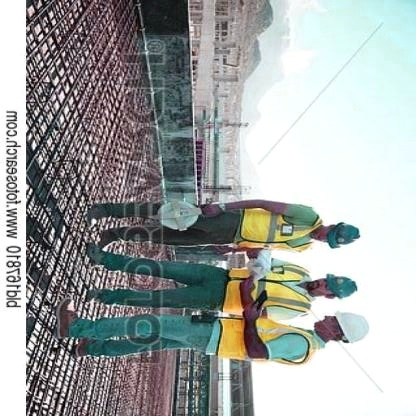blue: (326, 221, 366, 254), (323, 269, 362, 302)
vest: (216, 314, 322, 374), (224, 260, 320, 322), (238, 205, 326, 259)
white: (332, 307, 379, 346)
